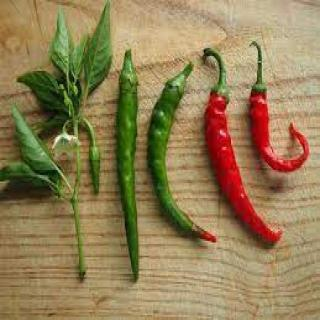Cabai Hijau: (148, 65, 199, 235), (117, 52, 139, 288), (89, 143, 100, 194)
Cabai Merah: (206, 91, 283, 250), (250, 55, 308, 172)
